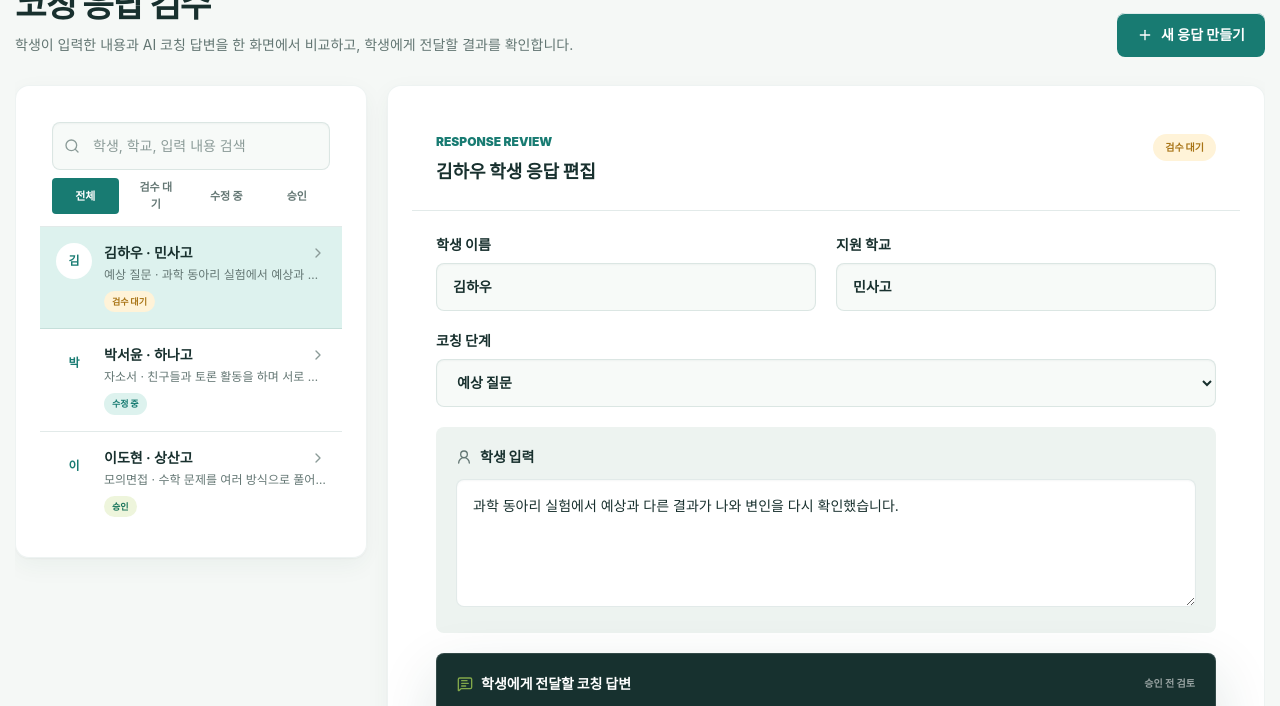
Test: ResponseReviewPanel › creates a new response record
This screenshot has width=1280, height=706.
Click the button "새 응답 만들기" at coordinates (1191, 35), box [1117,13,1265,57]
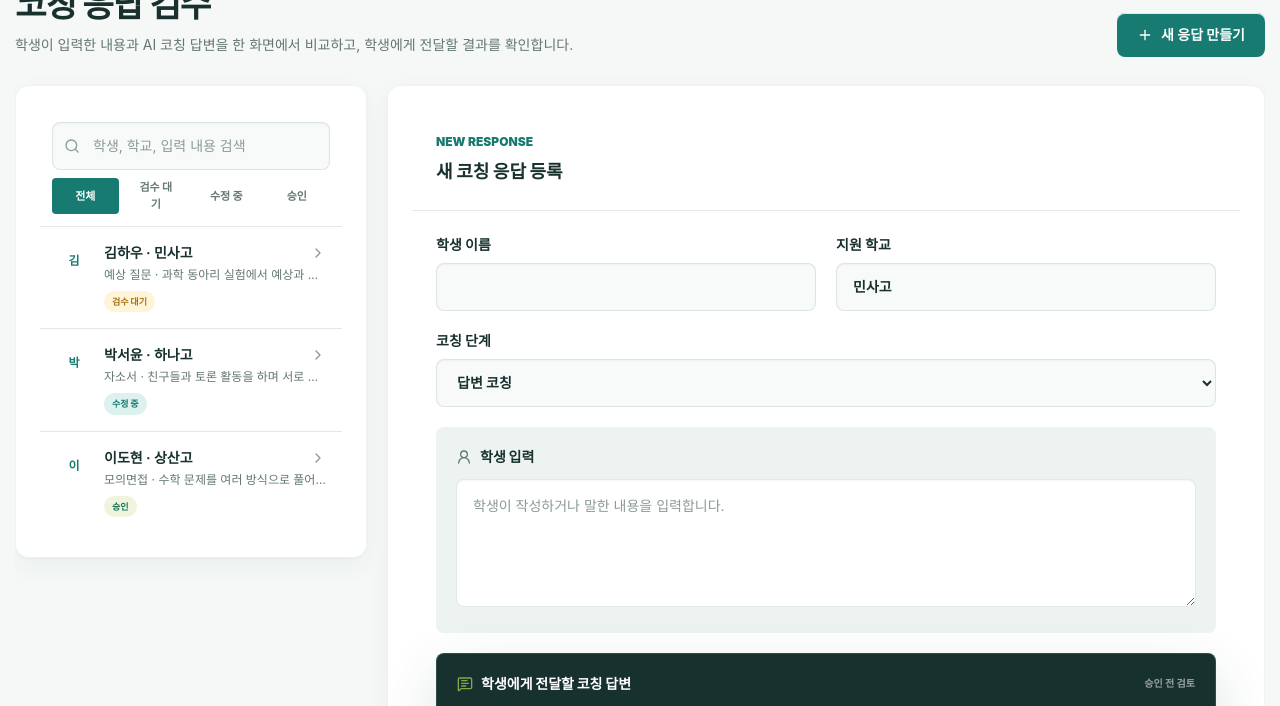
Type "신규학생" into the field labelled "학생 이름" at coordinates (626, 287), box [436,263,816,311]
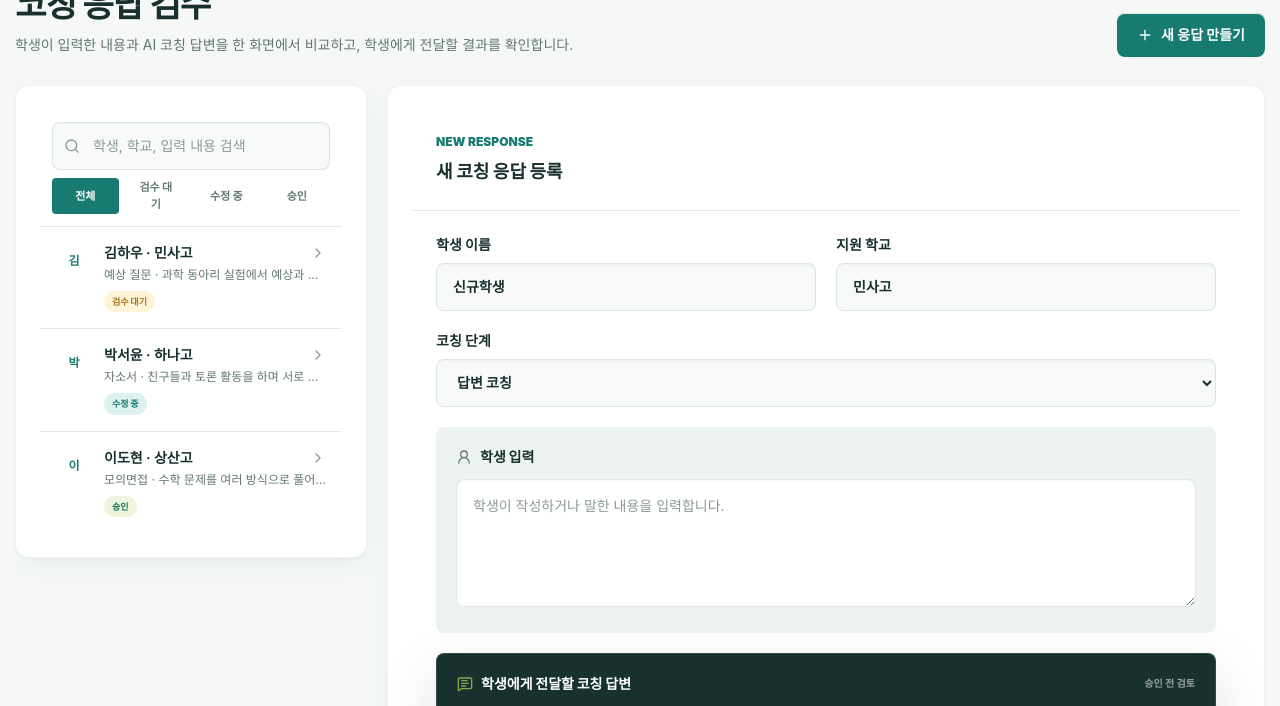
Type "제가 직접 작성한 학생 답변입니다." into the text box named "학생 입력 내용" at coordinates (826, 543), box [456,479,1196,607]
(page scrolled)
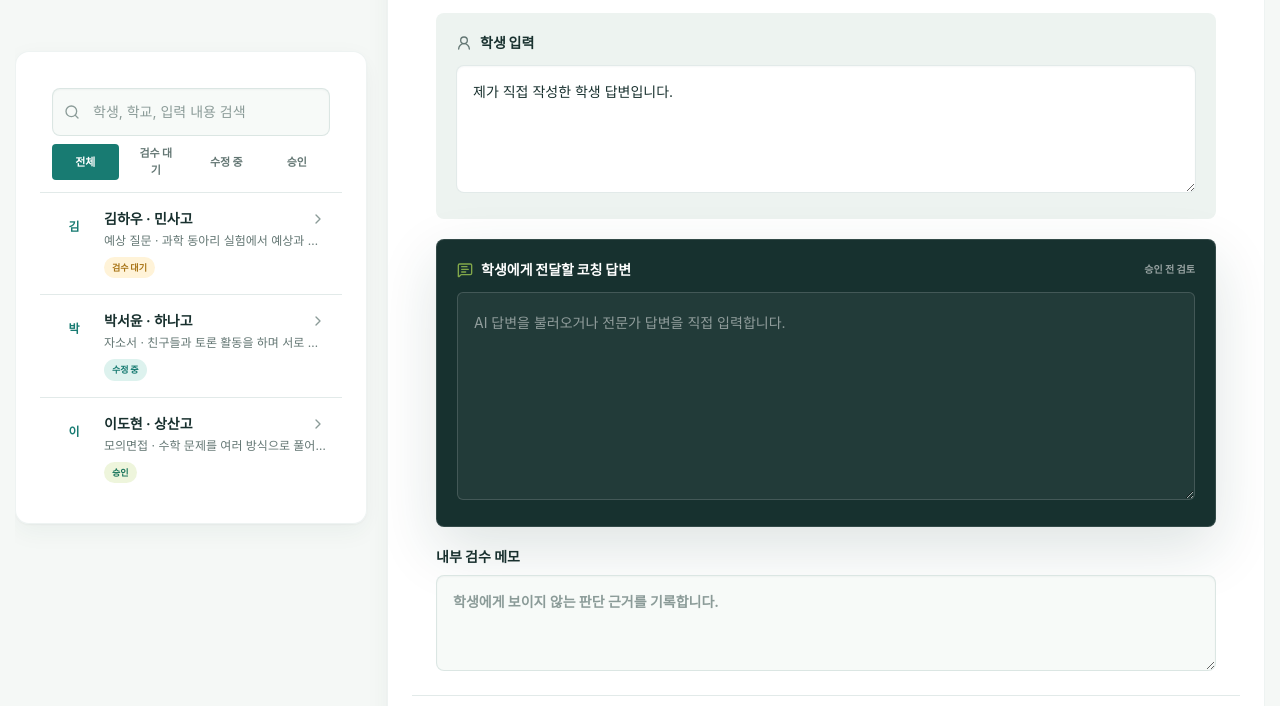
Type "경험의 판단 근거부터 말해보세요." into the text box named "최종 코칭 답변 수정" at coordinates (826, 396), box [457,292,1195,500]
(page scrolled)
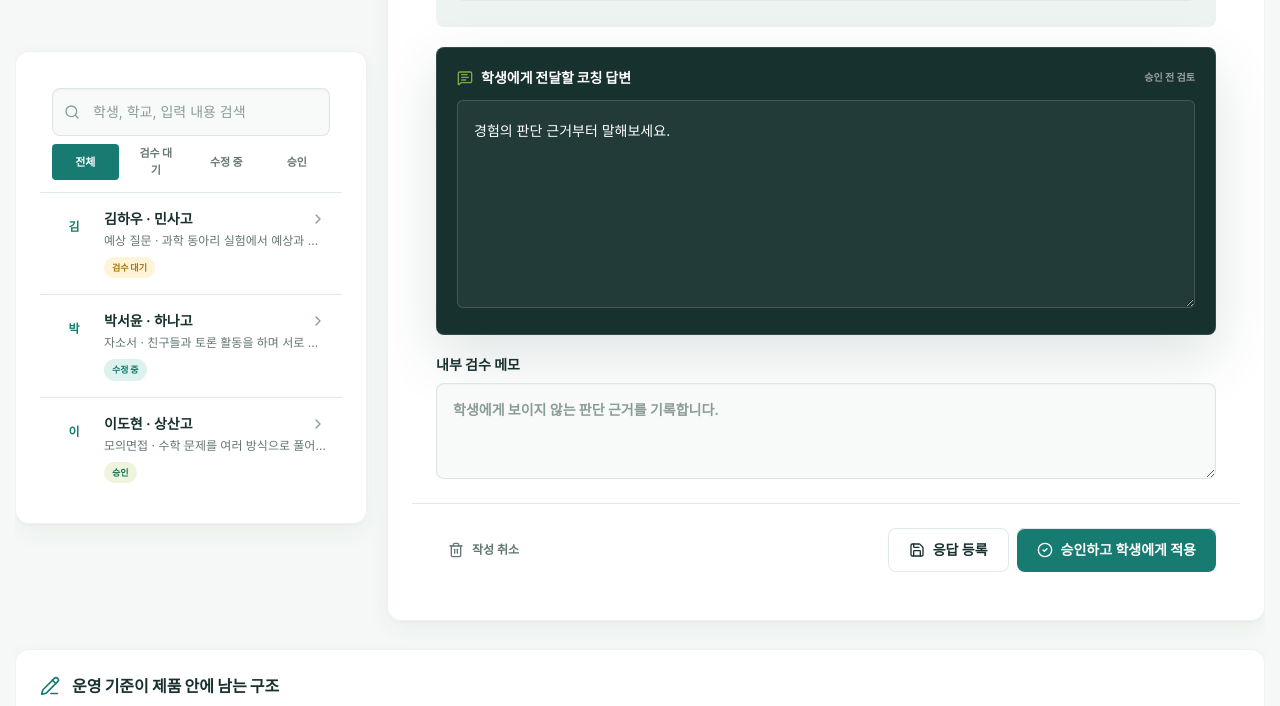
Click the button "응답 등록" at coordinates (948, 550), box [888,528,1008,572]
(page scrolled)
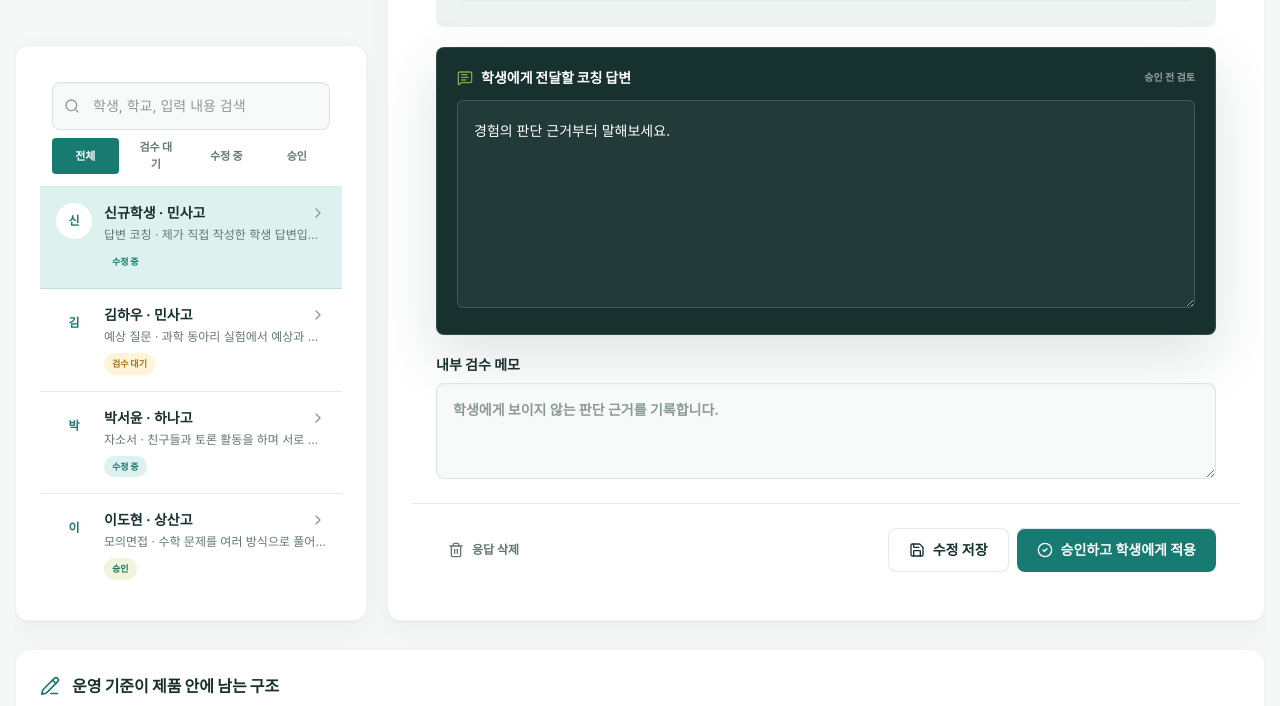
Check: the text "신규학생 · 민사고" is shown, box [104,203,206,223]
